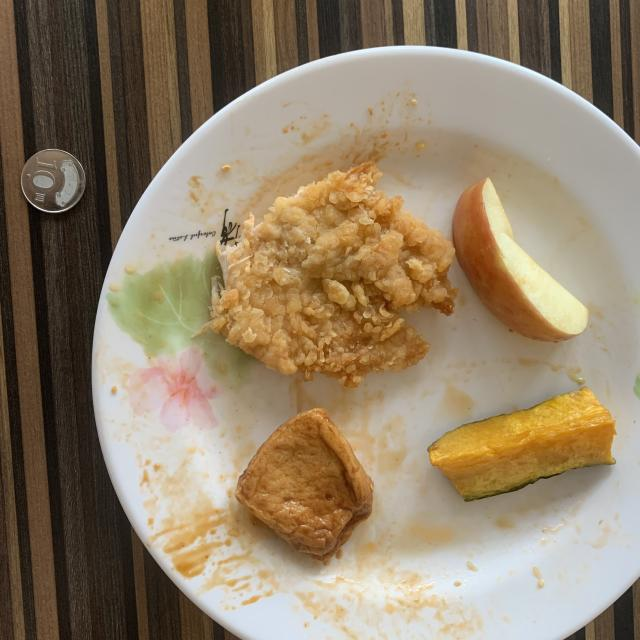apple -sliced-: (452, 178, 589, 341)
coin: (21, 149, 85, 212)
creamy tofu: (235, 408, 372, 561)
fried chicken cutlet: (206, 161, 458, 388)
pumpkin: (428, 388, 616, 501)
